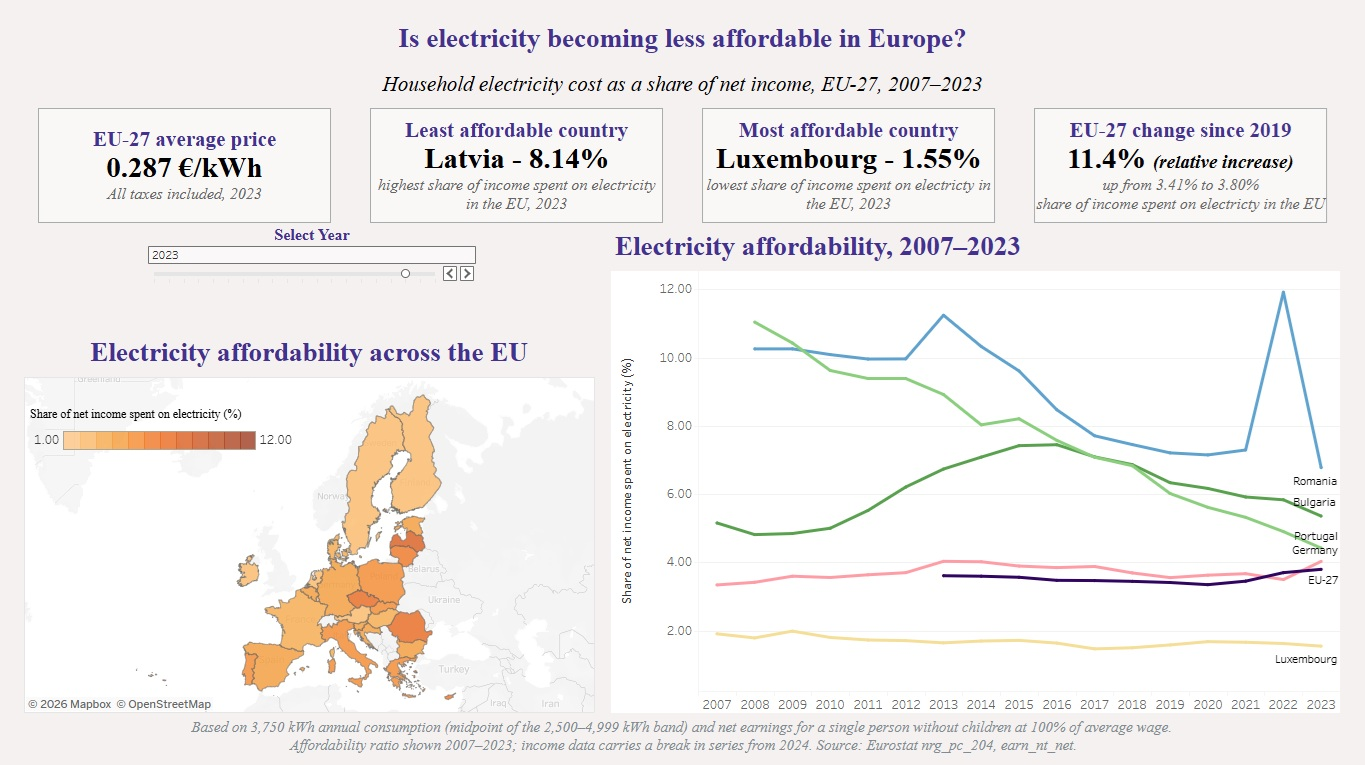

The page's visual inventory and layout, read from the dashboard file:
{"tool":"tableau","page":{"name":"Dashboard 1","canvas":[1366,768],"ordinal":0},"visuals":[{"type":"text","box":[39,22,1289,75]},{"type":"text","box":[39,108,293,115]},{"type":"text","box":[371,108,293,115]},{"type":"text","box":[703,108,293,115]},{"type":"text","box":[1035,108,293,115]},{"type":"filter","title":"map","param":"[federated.1b539221mwcn131a7072p0jk6jo8].[none:Calculation_1899446515462144:ok]","box":[148,225,330,88]},{"type":"worksheet","title":"Graph","mark":"Line","rows":["Calculation_1899446588903431"],"cols":["Calculation_1899446515462144"],"box":[612,225,729,488]},{"type":"worksheet","title":"map","mark":"Multipolygon","box":[25,331,571,382]},{"type":"legend","title":"map","param":"[federated.1b539221mwcn131a7072p0jk6jo8].[usr:Calculation_1899446588903431:qk]","box":[31,407,267,69]},{"type":"text","box":[28,715,1313,42]}]}

Visuals, with their boxes in screenshot pixels (x1, y1, x2, y2), scaled from the page's 1366x768 canvas onto the 1365x765 screenshot:
text: box(39, 22, 1327, 97)
text: box(39, 108, 332, 222)
text: box(371, 108, 664, 222)
text: box(702, 108, 995, 222)
text: box(1034, 108, 1327, 222)
"map" filter: box(148, 224, 478, 312)
"Graph" worksheet (Line marks): box(612, 224, 1340, 710)
"map" worksheet (Multipolygon marks): box(25, 330, 596, 710)
"map" legend: box(31, 405, 298, 474)
text: box(28, 712, 1340, 754)
